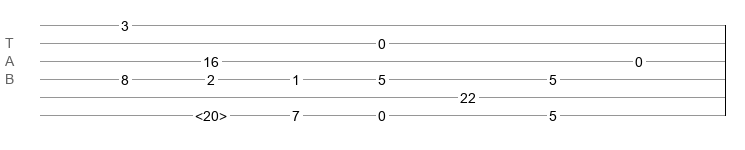0: (378, 108, 386, 118), (378, 36, 386, 46), (635, 54, 643, 64)
1: (292, 72, 300, 82)
16: (203, 54, 219, 64)
2: (207, 72, 215, 82)
22: (460, 90, 476, 100)
3: (121, 18, 129, 28)
5: (378, 72, 386, 82), (549, 108, 557, 118), (549, 72, 557, 82)
7: (292, 108, 300, 118)
8: (121, 72, 129, 82)
harmonic: (195, 108, 227, 118)
